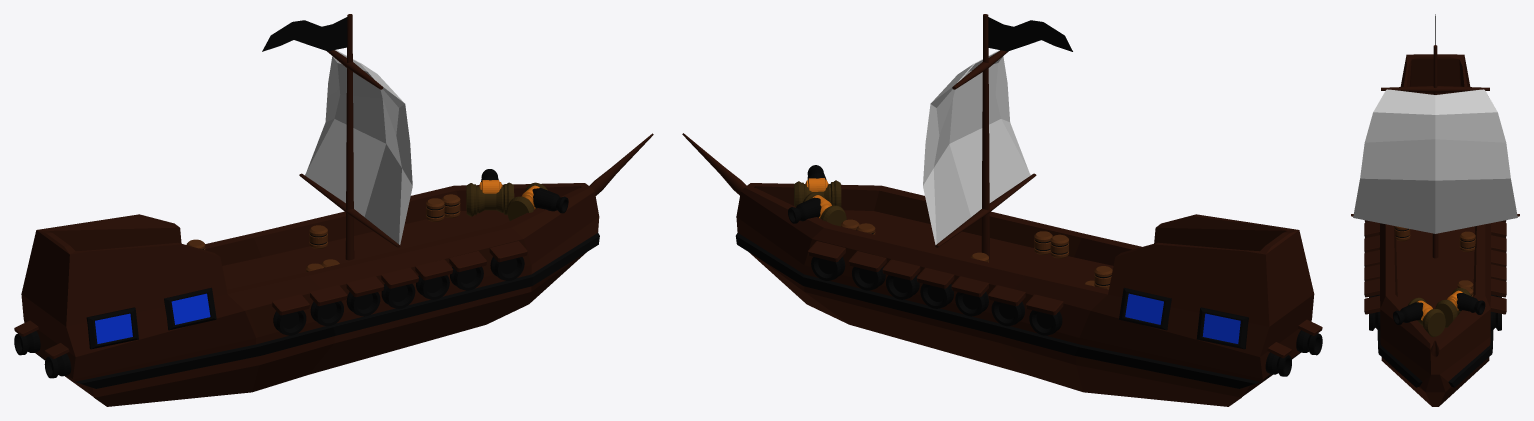
File: GGShip.obj
3 renders of one model, left to right at view 1: azimuth 30°, elevation 25°; view 2: azimuth 150°, elevation 25°; view 3: azimuth 270°, elevation 25°, orthographic. The views are drawn at different scales.
Visible parts, largest first — view 1: corpus, Plane, Plane.001, Balka1.001, okno, okno.002, ForGun.018, Balka2.002, Cylinder.027, Cylinder.003, Cylinder.006, Cylinder.005 (+5 smaller); view 2: corpus, Plane, Plane.001, Balka1.001, okno.001, okno.003, Balka2.002, ForGun.016, Cylinder.019, Cylinder.022, Cylinder.021, Cylinder.020 (+5 smaller); view 3: Plane, corpus, ForGun.016, Balka2.001, Cylinder.027, Cylinder.028, ForGun.018, Balka1.001, Cylinder.026, Cube.009, Cube.017, Cube.008 (+12 smaller).
Part boxes in pixels (x1,y1,x2,y2): corpus: (21,183,599,406); Plane: (305,50,412,244); Plane.001: (262,17,347,51); Balka1.001: (345,14,354,260); okno: (86,307,138,349); okno.002: (164,287,216,330); ForGun.018: (466,182,514,216); Balka2.002: (299,173,400,247); Cylinder.027: (532,188,568,213); Cylinder.003: (381,283,415,308); Cylinder.006: (273,310,306,335); Cylinder.005: (310,301,343,326); corpus: (735,183,1314,406); Plane: (923,50,1030,244); Plane.001: (988,17,1072,51); Balka1.001: (981,14,989,259); okno.001: (1196,307,1248,349); okno.003: (1119,287,1171,330); Balka2.002: (935,173,1036,247); ForGun.016: (794,180,841,206); Cylinder.019: (920,283,953,308); Cylinder.022: (1029,310,1062,335); Cylinder.021: (991,301,1024,326); Cylinder.020: (955,292,988,316); Plane: (1353,89,1517,233); corpus: (1377,54,1493,406); ForGun.016: (1408,297,1445,337); Balka2.001: (1381,86,1489,92); Cylinder.027: (1393,302,1423,324); Cylinder.028: (1456,293,1485,314); ForGun.018: (1435,287,1471,327); Balka1.001: (1432,45,1438,258); Cylinder.026: (1459,231,1475,252); Cube.009: (1364,295,1380,314); Cube.017: (1490,295,1506,314); Cube.008: (1364,278,1379,297).
Bounding box in the file's own units: 13.6 × 7.4 × 3.71.
